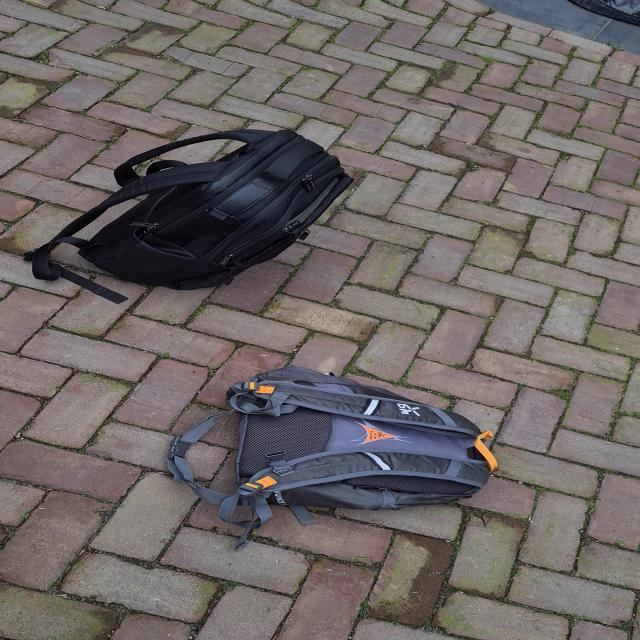backpack: (41, 123, 362, 292), (154, 362, 502, 514)
